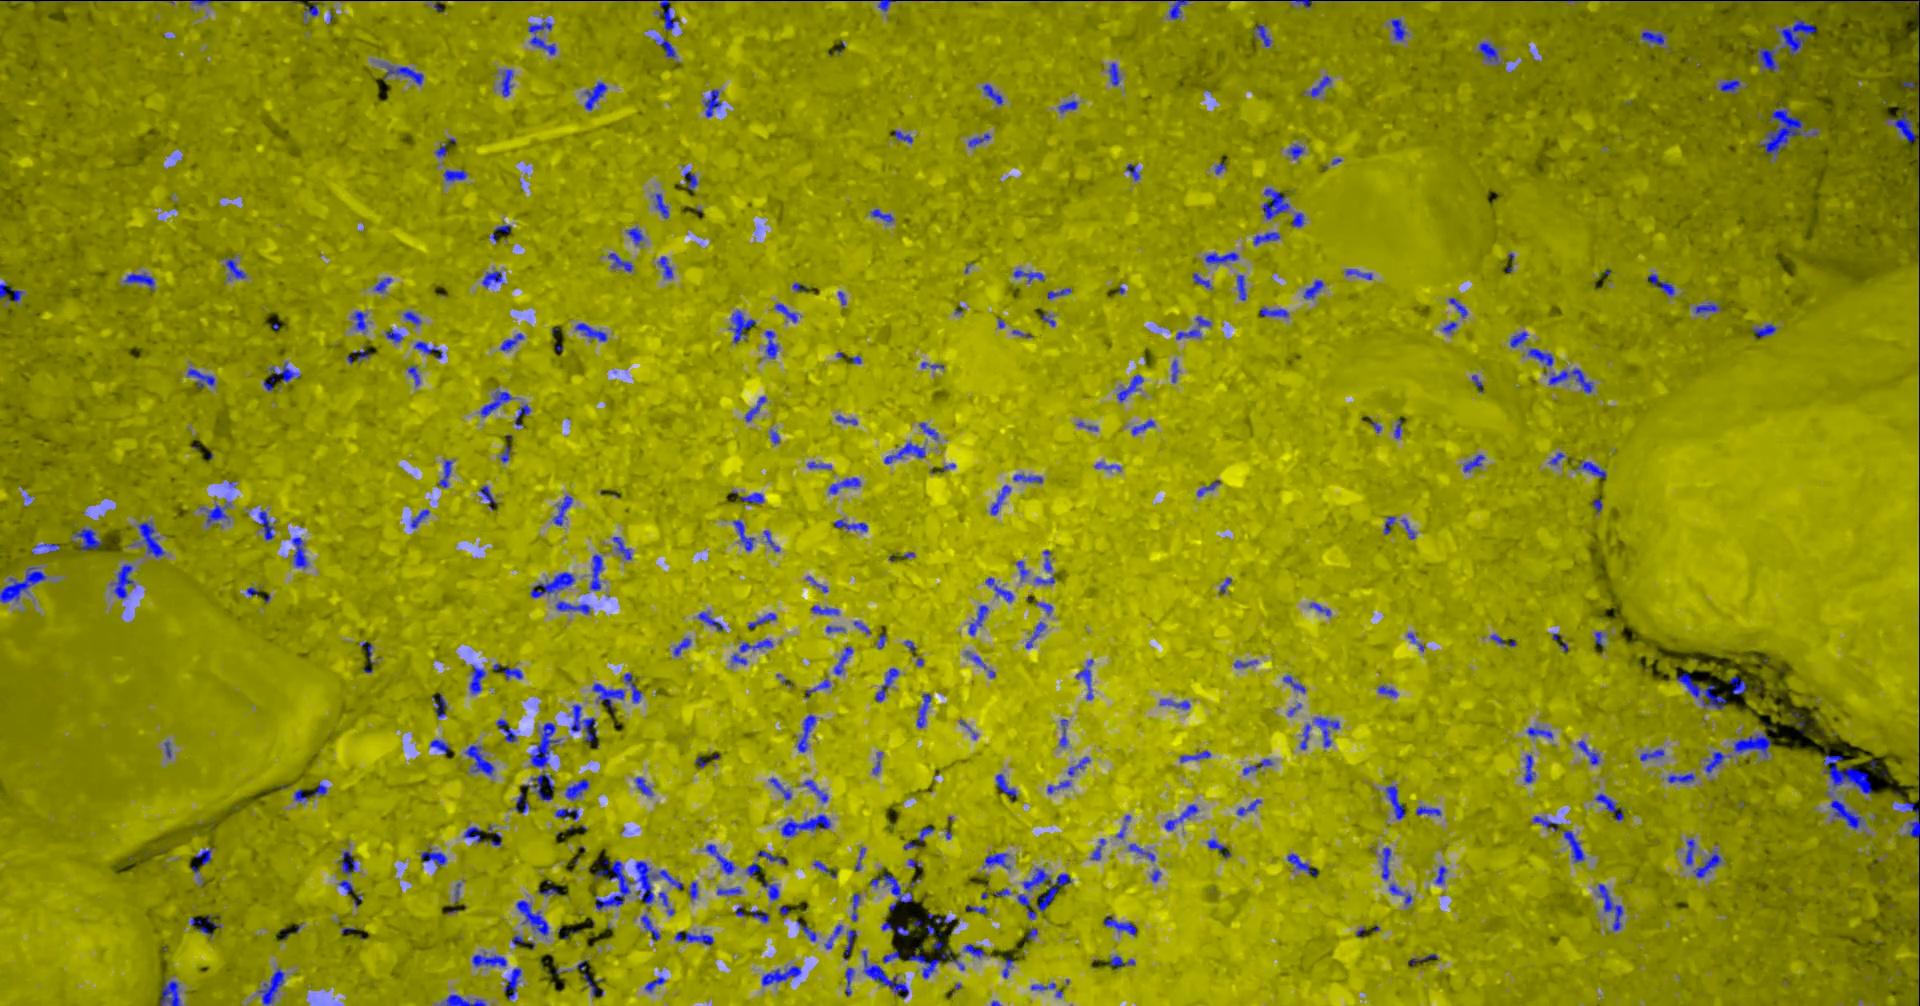ant: (1017, 868, 1070, 920), (1757, 102, 1804, 158), (861, 950, 908, 998), (1822, 749, 1872, 793), (1675, 671, 1726, 709), (908, 948, 964, 978), (0, 567, 46, 602), (530, 721, 561, 767), (1778, 18, 1816, 55), (869, 873, 912, 902), (131, 520, 164, 558), (1597, 883, 1622, 930), (516, 901, 549, 935), (530, 572, 574, 597), (1547, 368, 1592, 392), (780, 814, 830, 836), (263, 361, 300, 390), (257, 967, 284, 1005), (1887, 109, 1919, 142), (1829, 799, 1863, 829), (527, 18, 555, 55), (1733, 732, 1771, 757), (883, 441, 924, 464), (570, 704, 596, 741), (382, 62, 423, 85), (463, 744, 494, 775), (705, 843, 735, 874), (728, 310, 756, 343), (1261, 187, 1289, 218), (479, 390, 512, 417), (1175, 315, 1210, 339), (577, 959, 601, 995), (522, 774, 554, 800), (1164, 804, 1197, 829), (874, 667, 898, 701), (1594, 793, 1623, 821), (590, 683, 623, 708), (199, 500, 231, 525), (761, 965, 800, 984), (1116, 373, 1143, 401), (1313, 716, 1338, 746), (731, 520, 754, 551), (113, 563, 133, 598), (1076, 658, 1093, 699), (1731, 0, 1919, 4), (1562, 829, 1583, 862), (188, 915, 221, 936), (1693, 850, 1719, 876), (985, 577, 1013, 602), (583, 81, 607, 111), (1900, 801, 1919, 838), (797, 714, 815, 752), (1751, 47, 1779, 71), (72, 527, 102, 550), (1385, 785, 1404, 819), (1901, 72, 1919, 108), (1288, 854, 1317, 875), (123, 271, 154, 291), (968, 605, 988, 635), (1704, 751, 1731, 774), (185, 367, 215, 387), (574, 323, 607, 340), (1103, 917, 1137, 935), (658, 0, 677, 30), (1648, 273, 1674, 296), (159, 979, 182, 1005), (1304, 75, 1331, 97), (996, 774, 1016, 801), (1575, 460, 1606, 478), (990, 485, 1010, 514), (552, 495, 571, 525), (803, 779, 827, 801), (697, 610, 723, 631), (1025, 621, 1045, 648), (623, 672, 641, 702), (702, 89, 721, 117), (833, 647, 852, 674), (674, 931, 712, 945), (828, 478, 860, 494), (504, 967, 521, 998), (471, 951, 505, 967), (744, 396, 766, 420), (564, 779, 588, 800), (413, 340, 442, 358), (257, 511, 274, 540), (640, 915, 660, 940), (291, 536, 307, 567), (916, 694, 931, 727), (589, 554, 603, 589), (1577, 741, 1599, 763), (768, 777, 791, 799), (1388, 883, 1411, 904), (495, 718, 516, 742), (607, 251, 632, 271), (823, 923, 842, 949), (469, 664, 485, 694), (1128, 843, 1154, 861), (654, 37, 676, 58), (1478, 42, 1498, 65), (225, 257, 245, 279), (0, 281, 23, 301), (1067, 756, 1090, 776), (1242, 758, 1272, 774), (439, 995, 485, 1005), (739, 638, 772, 652), (1528, 348, 1553, 366), (555, 601, 590, 614), (805, 680, 830, 697), (1236, 798, 1261, 815), (420, 848, 446, 866), (747, 612, 776, 627), (982, 83, 1002, 104), (796, 920, 817, 941), (1166, 0, 1189, 19), (488, 224, 510, 243), (775, 304, 797, 323), (1462, 453, 1484, 473), (612, 536, 631, 559), (1283, 674, 1305, 694), (499, 333, 523, 351), (1206, 840, 1230, 857), (338, 850, 356, 874), (1013, 268, 1044, 282), (437, 459, 452, 486), (757, 850, 787, 864), (881, 920, 909, 935), (842, 929, 856, 959), (409, 508, 429, 528), (1531, 815, 1558, 831), (983, 852, 1010, 868), (1178, 749, 1210, 762), (480, 485, 497, 509), (658, 890, 674, 915), (1204, 251, 1238, 263), (833, 520, 867, 531), (764, 330, 778, 358), (1303, 279, 1323, 298), (1448, 297, 1467, 318), (1751, 323, 1777, 338), (1253, 24, 1271, 46), (358, 641, 376, 663), (1196, 479, 1219, 495), (813, 860, 836, 876), (1252, 231, 1279, 245), (537, 880, 561, 895), (918, 422, 938, 439), (1718, 77, 1740, 94), (481, 271, 503, 287), (654, 193, 668, 218), (968, 132, 990, 147), (514, 403, 530, 426), (1131, 419, 1154, 434), (430, 694, 446, 716), (1407, 953, 1437, 964), (1490, 634, 1516, 647), (672, 636, 690, 655), (1728, 674, 1746, 694), (1639, 30, 1663, 44), (1399, 518, 1416, 539), (965, 652, 985, 668), (762, 880, 778, 901), (1390, 18, 1406, 39), (657, 257, 672, 278), (350, 310, 366, 332), (763, 530, 778, 551), (514, 791, 530, 813), (1090, 838, 1105, 860), (644, 976, 665, 991), (500, 69, 512, 97), (870, 208, 893, 222), (30, 542, 58, 554), (1523, 754, 1534, 782), (963, 942, 985, 956), (634, 777, 651, 795), (917, 826, 935, 843), (194, 847, 212, 865), (1192, 272, 1211, 288), (463, 826, 483, 842), (1012, 473, 1043, 483), (429, 739, 450, 754), (1046, 780, 1070, 793), (1345, 268, 1371, 279), (1299, 723, 1310, 749), (1109, 955, 1135, 967), (1789, 709, 1803, 730), (1001, 955, 1015, 977), (1258, 307, 1288, 318), (1159, 699, 1189, 709), (626, 226, 643, 244), (1107, 64, 1120, 86), (442, 169, 467, 180), (1694, 301, 1719, 312), (1509, 332, 1528, 347), (1526, 727, 1552, 738), (486, 826, 502, 845), (927, 912, 952, 923), (1015, 560, 1029, 580), (1666, 772, 1694, 782), (844, 967, 855, 995), (1382, 847, 1390, 879), (1639, 748, 1663, 760), (554, 808, 578, 819), (406, 365, 419, 386), (373, 277, 391, 292), (1685, 838, 1695, 865), (303, 0, 317, 19), (683, 171, 697, 191), (740, 492, 763, 503), (1057, 100, 1077, 113), (1236, 274, 1246, 300), (1309, 602, 1330, 615), (1415, 805, 1440, 815), (1125, 163, 1139, 180), (810, 605, 838, 614), (293, 788, 311, 801), (1046, 288, 1070, 298), (893, 130, 912, 142), (403, 311, 422, 324), (383, 329, 403, 342), (503, 667, 522, 680), (750, 909, 770, 922), (1058, 719, 1067, 746), (1095, 461, 1120, 470), (1383, 516, 1396, 533), (851, 892, 858, 921), (836, 414, 857, 424), (965, 904, 987, 915), (1377, 685, 1396, 696), (1435, 865, 1446, 884), (716, 887, 740, 895), (1288, 144, 1303, 158), (338, 879, 353, 893), (877, 0, 895, 11), (1043, 549, 1051, 572), (745, 862, 759, 876), (1291, 212, 1304, 227), (1030, 982, 1055, 989), (883, 950, 899, 962), (1233, 659, 1257, 667), (500, 445, 510, 462), (1034, 575, 1054, 584), (312, 782, 326, 795), (1441, 321, 1457, 333), (1171, 359, 1178, 382), (434, 144, 446, 158), (731, 653, 745, 664), (688, 882, 697, 899), (806, 461, 830, 467)
